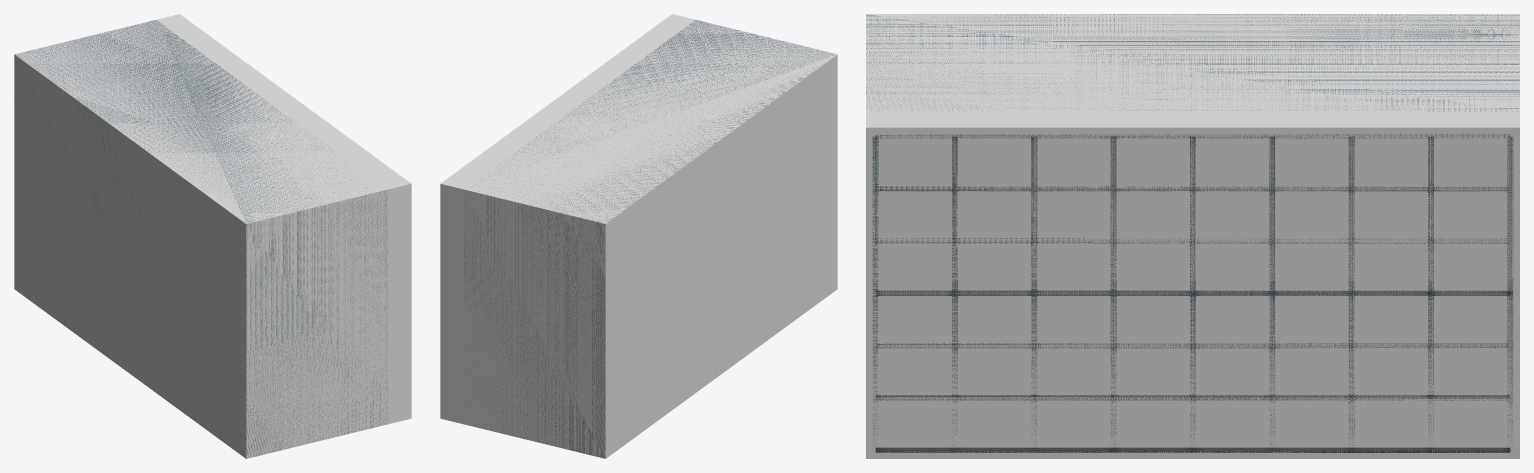
The model's file is shoe_locker.glb.
The picture shows the model from 3 angles, left to right: view 1: azimuth 30°, elevation 25°; view 2: azimuth 150°, elevation 25°; view 3: azimuth 270°, elevation 25°; orthographic projection. The views are drawn at different scales.
Visible parts, largest first — view 1: COL_Body, ShoeLocker; view 2: COL_Body, ShoeLocker; view 3: COL_Body, ShoeLocker.
Part boxes in pixels (x1=…): COL_Body: x1=14, y1=14, x2=411, y2=458; ShoeLocker: x1=15, y1=20, x2=387, y2=458; COL_Body: x1=440, y1=14, x2=837, y2=458; ShoeLocker: x1=464, y1=20, x2=834, y2=458; COL_Body: x1=866, y1=14, x2=1519, y2=458; ShoeLocker: x1=866, y1=14, x2=1519, y2=452.
Size of the model in its own units: 1.4 by 1.9 by 3.4.
Materials: 3 (3 with a texture image).
